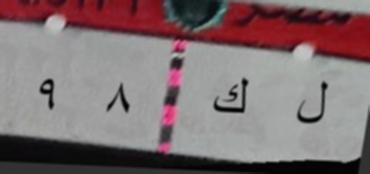8: (100, 77, 136, 123)
9: (24, 76, 79, 116)
kaaf: (200, 71, 256, 126)
laam: (287, 74, 336, 134)
